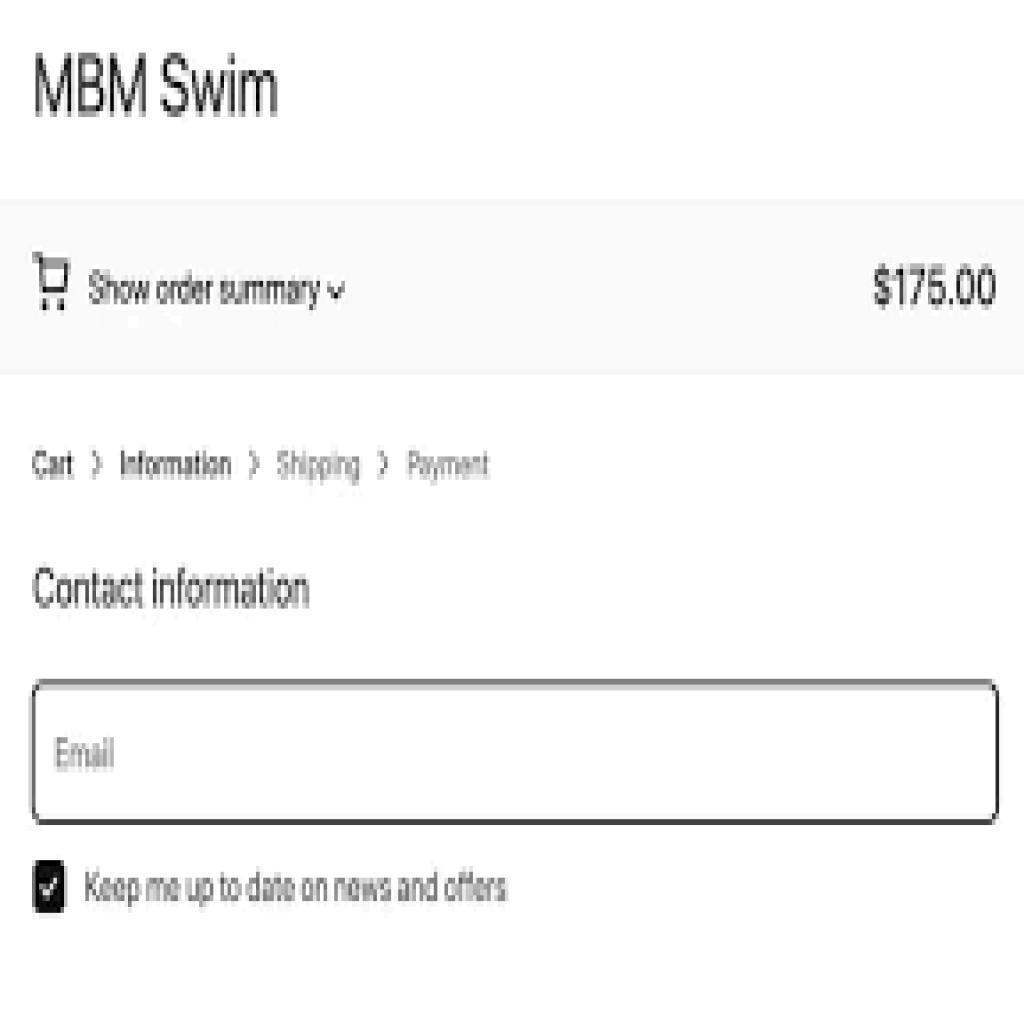checkbox: (32, 857, 68, 916)
dropdown: (83, 265, 322, 315)
icon: (31, 242, 78, 314), (325, 275, 349, 308)
input: (31, 680, 1003, 828)
